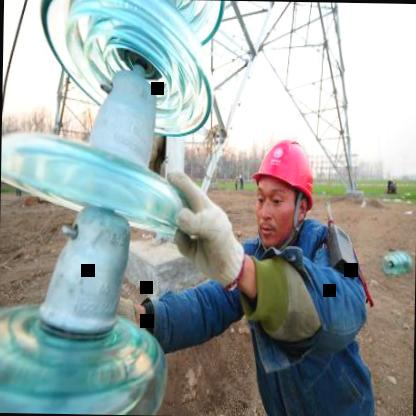helmet: (239, 121, 327, 250)
